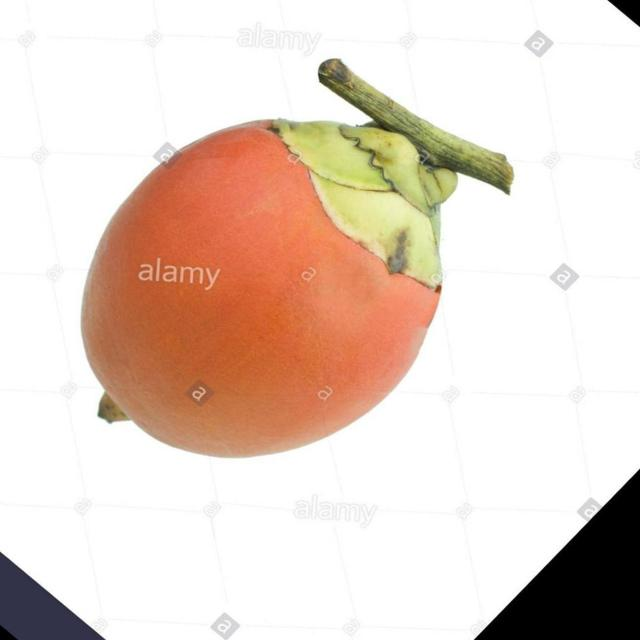good: (79, 60, 513, 462)
